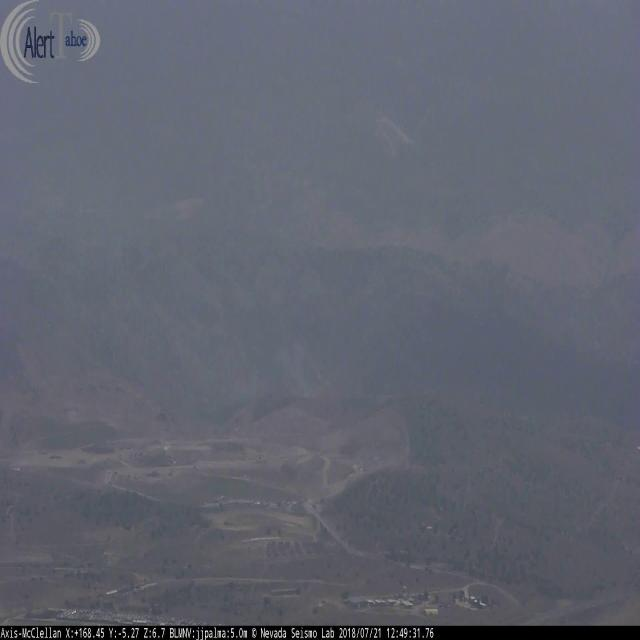smoke: (275, 334, 327, 398)
